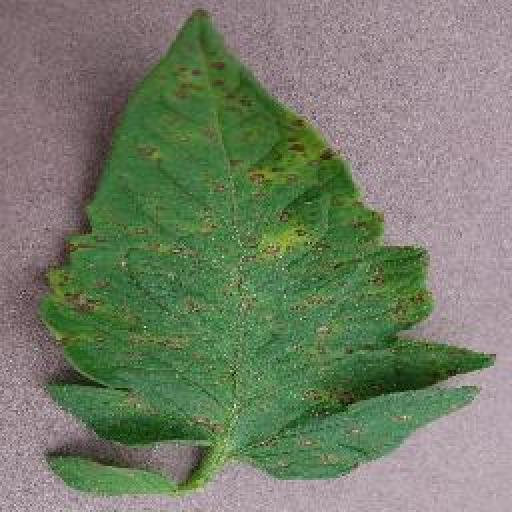disease_tomato: (39, 7, 495, 477)
